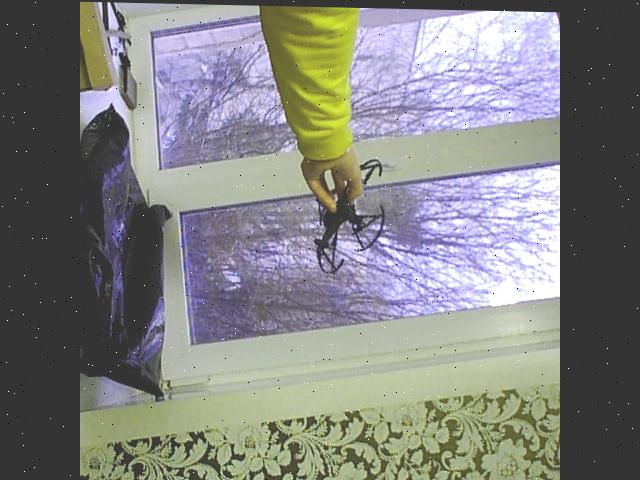drone: (294, 143, 400, 287)
